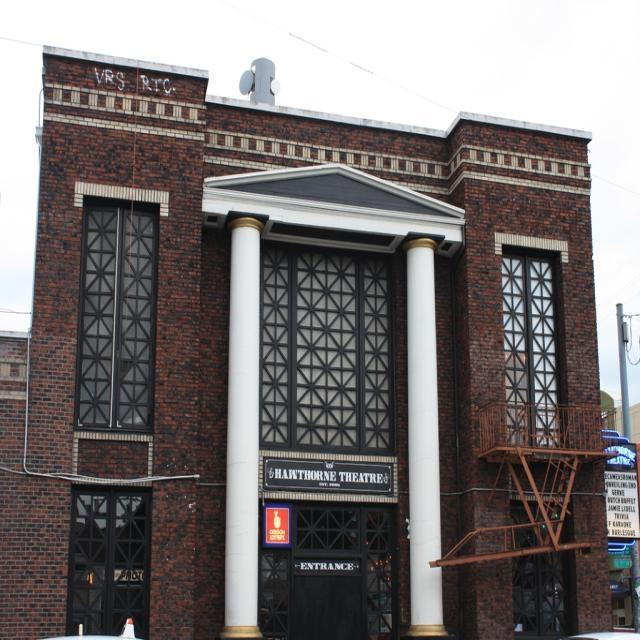door: (63, 480, 149, 640)
